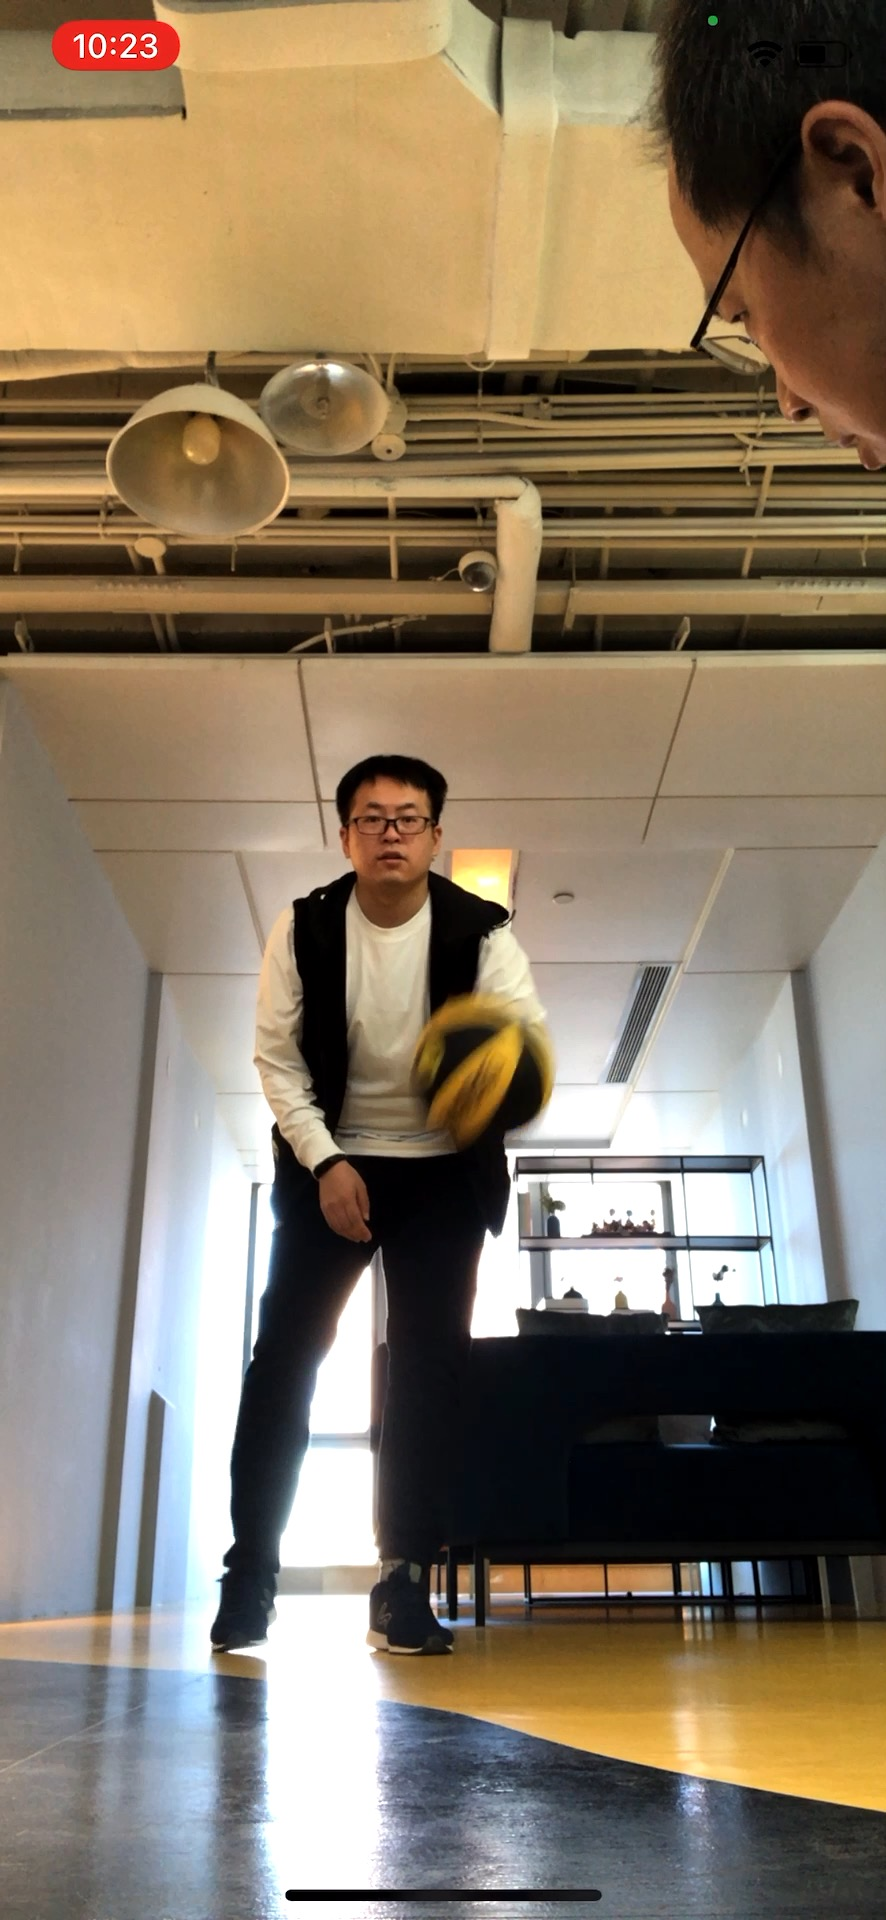ball: (408, 998, 559, 1139)
